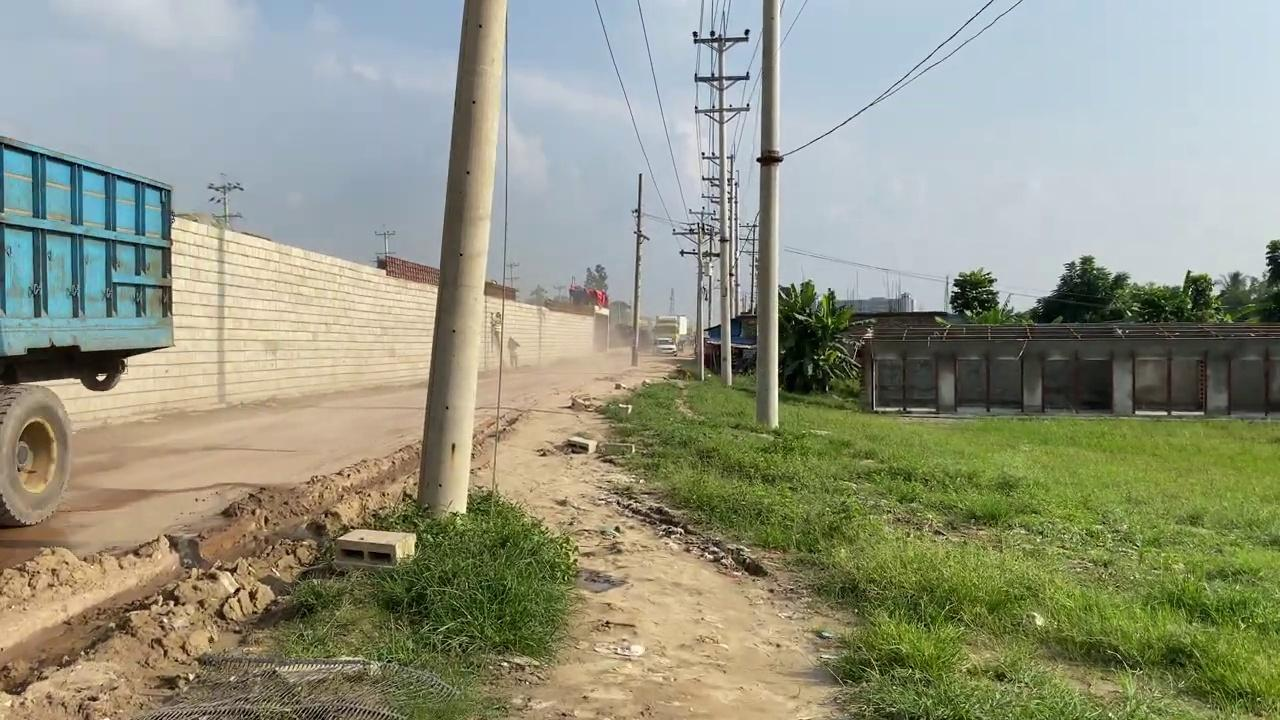Muddy road: (1, 343, 854, 717)
Obstacle: (332, 527, 417, 572)
Pole: (416, 0, 508, 519), (754, 0, 781, 429), (630, 172, 643, 366)
Rickshaw: (469, 351, 852, 718)
Traffic-sign: (776, 278, 859, 394), (1038, 253, 1129, 322), (948, 266, 999, 319)
Tree: (0, 133, 175, 527), (651, 314, 688, 356)
Upstairs: (14, 210, 608, 433), (861, 320, 1278, 418)
